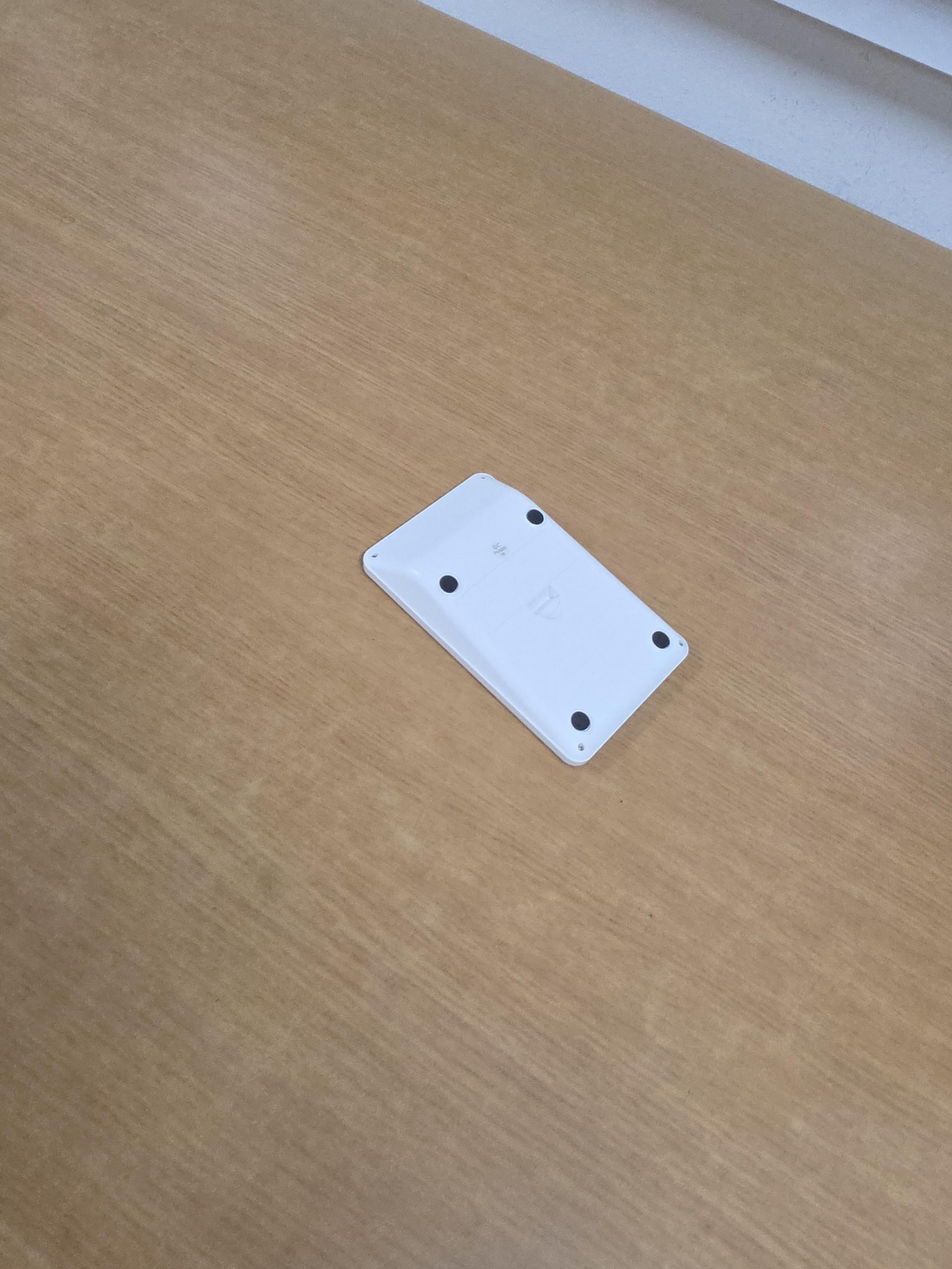calculator: (361, 471, 689, 767)
